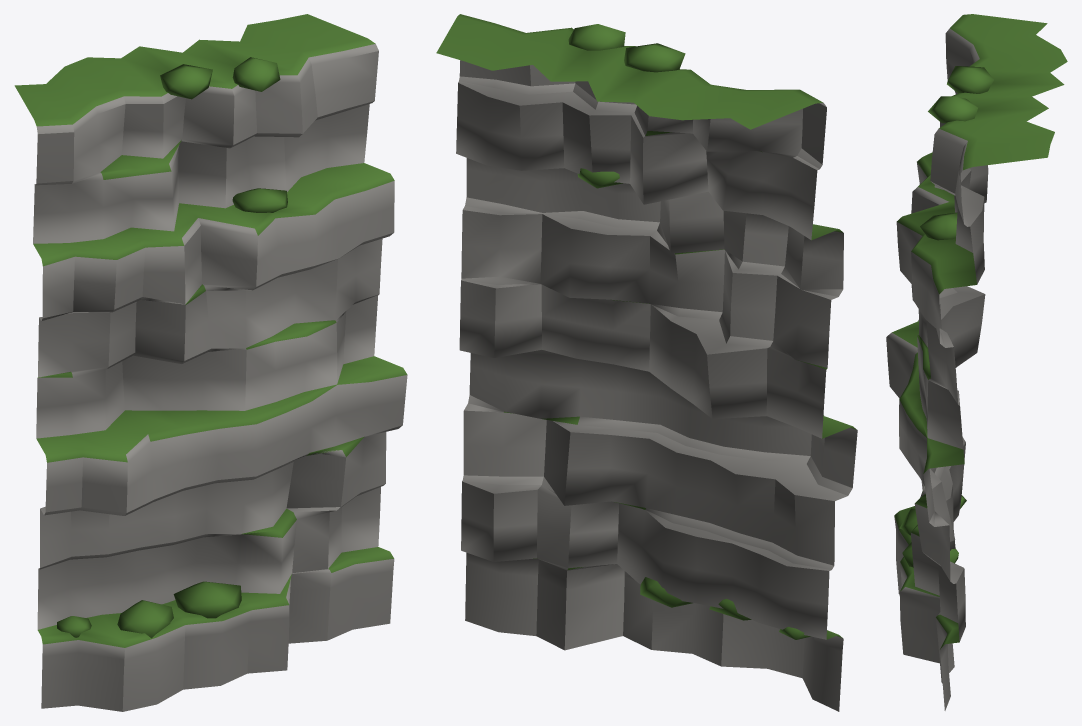
File: cliff_convex_60_lod1.glb
3 renders of one model, left to right at view 1: azimuth 30°, elevation 25°; view 2: azimuth 150°, elevation 25°; view 3: azimuth 270°, elevation 25°, orthographic. The views are drawn at different scales.
Parts seen in each view (by area): view 1: cliff_convex_60_lod1; view 2: cliff_convex_60_lod1; view 3: cliff_convex_60_lod1.
Boxes of the visible parts, x1,y1,x2,y2 form: cliff_convex_60_lod1: [14, 14, 407, 711]; cliff_convex_60_lod1: [436, 14, 857, 711]; cliff_convex_60_lod1: [886, 14, 1067, 710].
Size of the model in its own units: 41.9 by 65.79 by 19.46.
